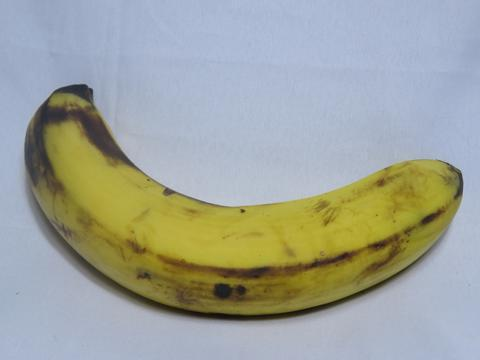ripe: (14, 72, 475, 327)
